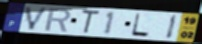1: (104, 11, 116, 35)
I: (164, 13, 179, 40)
L: (130, 12, 151, 38)
R: (44, 6, 73, 33)
T: (79, 8, 101, 35)
V: (24, 6, 50, 31)
